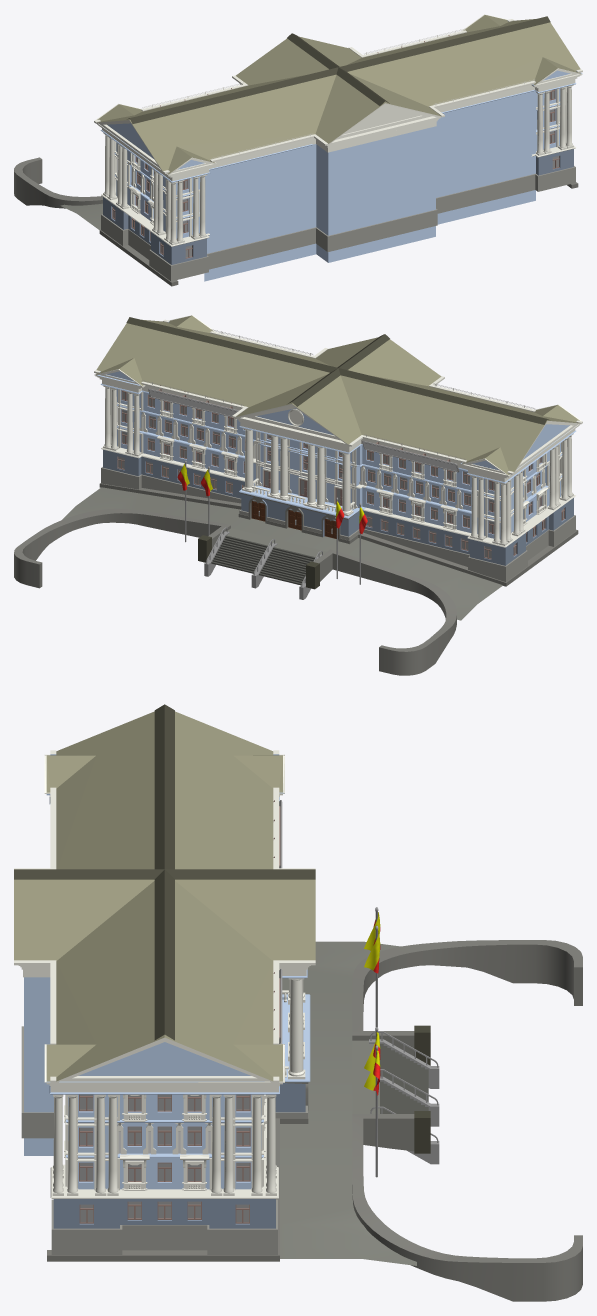
The model's file is Aminisrtation.fbx.
3 renders of one model, top to bottom at view 1: azimuth 30°, elevation 25°; view 2: azimuth 150°, elevation 25°; view 3: azimuth 270°, elevation 25°, orthographic. The views are drawn at different scales.
Visible parts, largest first — view 1: Adinistracia.005; view 2: Adinistracia.005, billboard.014, billboard.013; view 3: Adinistracia.005.
Part boxes in pixels (x1,y1,x2,y2): Adinistracia.005: (14, 14, 582, 286); Adinistracia.005: (14, 315, 582, 675); billboard.014: (362, 438, 459, 472); billboard.013: (148, 385, 238, 418); Adinistracia.005: (14, 704, 582, 1301).
Bounding box in the file's own units: 7066 × 2701 × 5145.
